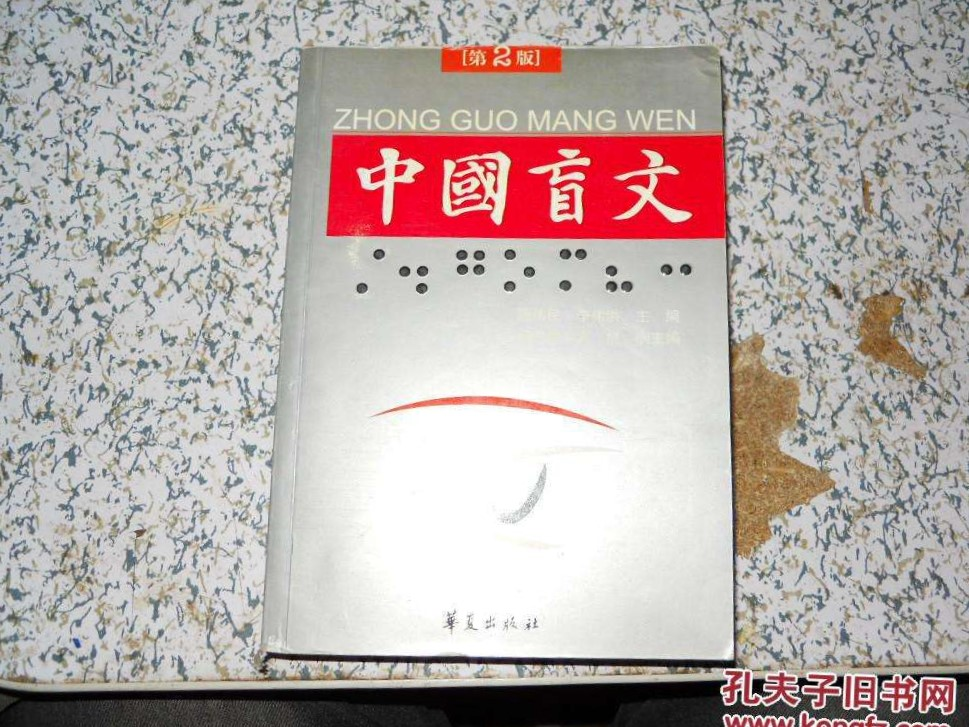Braille: (355, 246, 387, 296), (397, 250, 430, 297), (453, 249, 487, 294), (504, 248, 537, 294), (659, 250, 693, 293), (559, 248, 588, 293), (604, 251, 633, 294)
